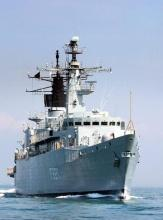warship: (7, 37, 142, 201)
